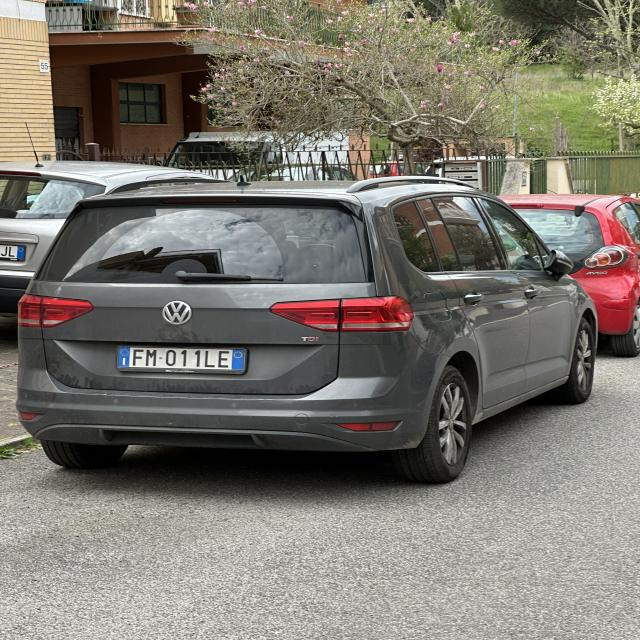number_plate: (118, 347, 246, 373)
